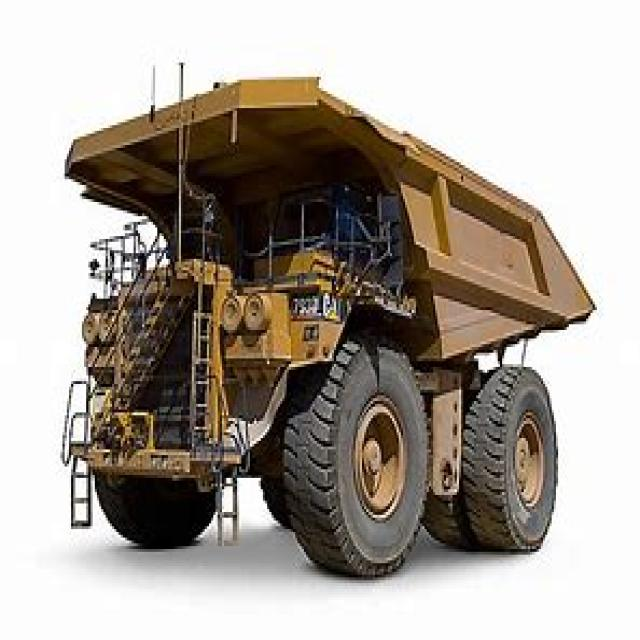dump_truck: (54, 71, 592, 578)
